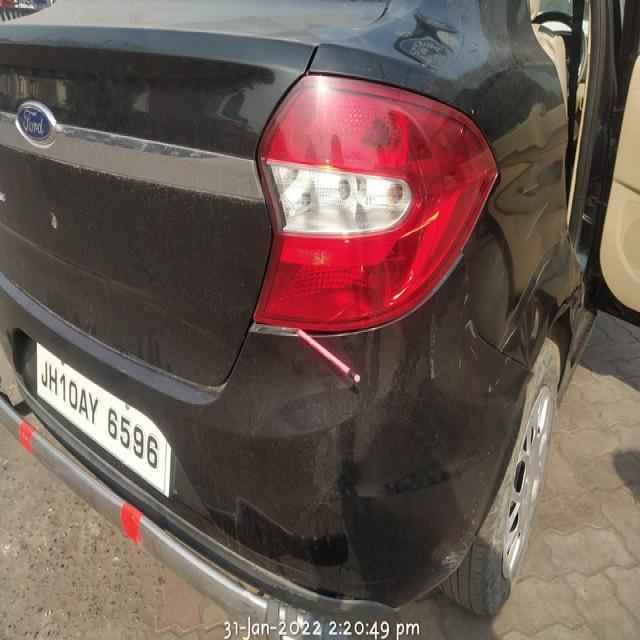damage: (420, 294, 521, 421), (251, 306, 382, 386)
